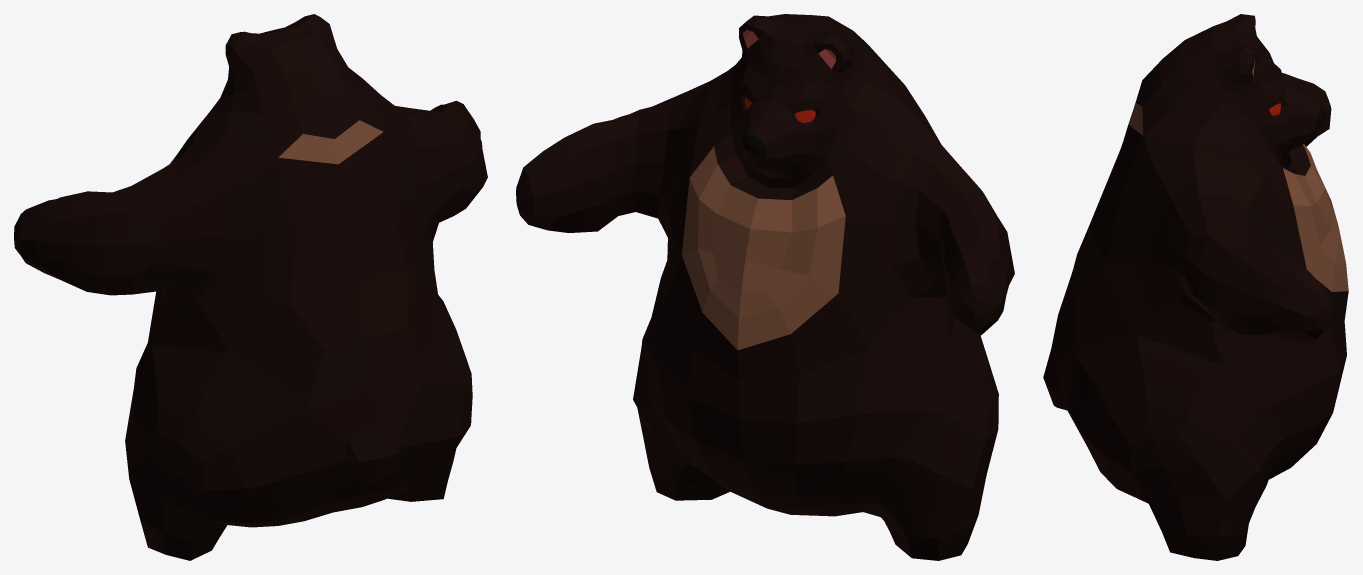
Rendered from Bear_test.FBX.
3 views of the same model, side by side, from view 1: azimuth 30°, elevation 25°; view 2: azimuth 150°, elevation 25°; view 3: azimuth 270°, elevation 25° (orthographic). The views are drawn at different scales.
Parts seen in each view (by area): view 1: Bear002; view 2: Bear002; view 3: Bear002.
Boxes of the visible parts, bbox=[...] form: Bear002: bbox=[14, 14, 487, 560]; Bear002: bbox=[516, 14, 1014, 560]; Bear002: bbox=[1043, 14, 1348, 560].
Bounding box in the file's own units: 40.07 × 40.04 × 24.02.
